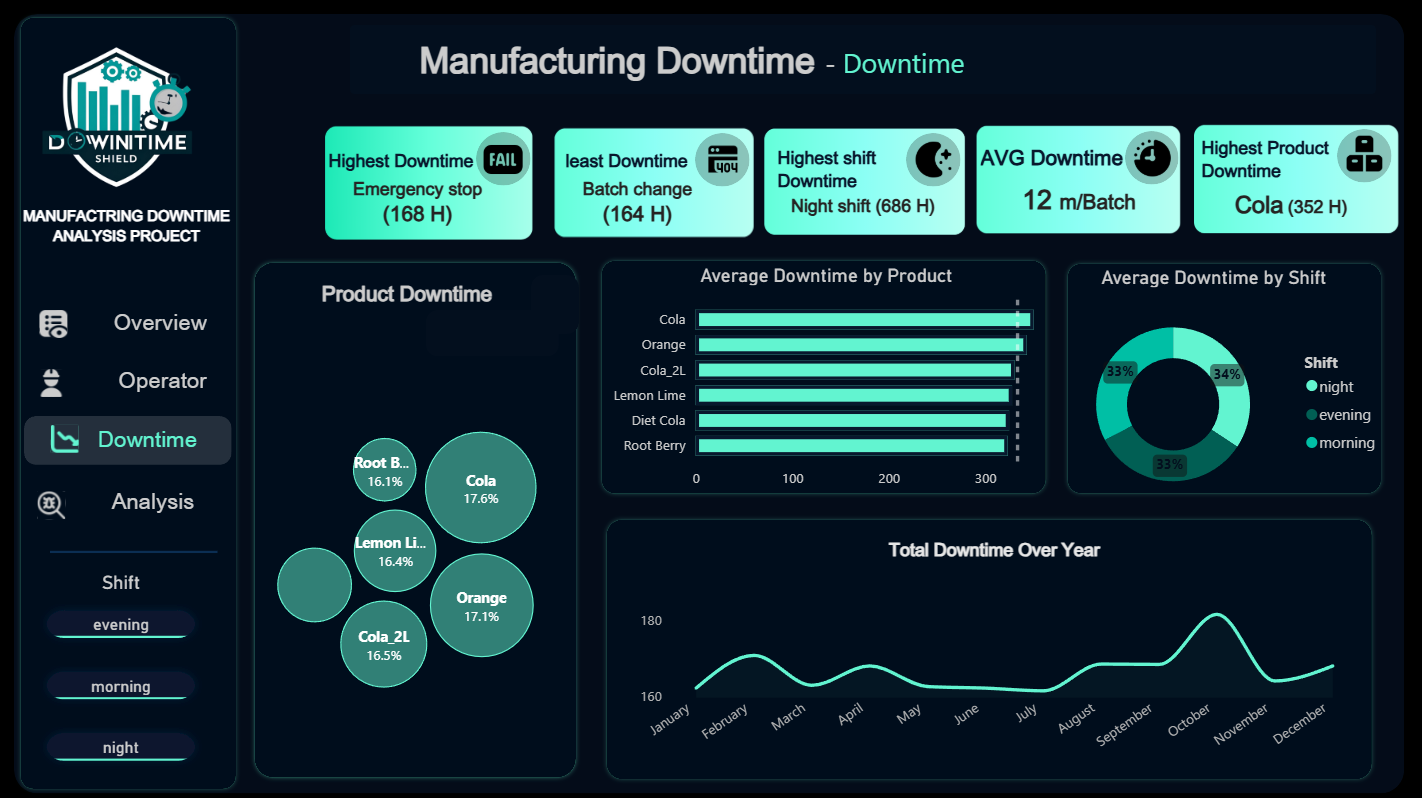

What the dashboard file says about the page in this screenshot:
{"tool":"tableau","page":{"name":"downtime dashboard","canvas":[1000,1000],"units":"permille","ordinal":4},"visuals":[{"type":"image","param":"C:/Users/Haridy/Downloads/Capturedowntimet.PNG","box":[4.4,7.5,991.2,984.9]},{"type":"text","box":[126.4,30.2,442.3,120.8]},{"type":"text","box":[361.5,107.5,147.8,110.4]},{"type":"text","box":[3.5,134,108.1,100]},{"type":"text","box":[110.4,135.8,228.6,63.2]},{"type":"text","box":[567.4,145.3,177.3,96.2]},{"type":"filter","title":"Sheet 7","param":"[federated.0c9032j022f4a41e0ua0h1i23vp0].[mn:Date:ok]","box":[776.9,150.9,184.6,67.9]},{"type":"text","box":[405.5,161.3,63.2,84.9]},{"type":"text","box":[148.3,173.6,146.2,71.7]},{"type":"text","box":[591.8,203.8,111.5,124.5]},{"type":"text","box":[169.8,213.2,92.3,105.7]},{"type":"text","box":[388.5,222.6,91.2,77.4]},{"type":"filter","title":"Sheet 7","param":"[federated.0c9032j022f4a41e0ua0h1i23vp0].[none:shift (operator):nk]","box":[777.5,232.1,186.3,63.2]},{"type":"dashboard-object","box":[37.8,348.1,43,65.1]},{"type":"worksheet","title":"Sheet 13","mark":"Circle","box":[132,354.7,319.8,568.9]},{"type":"worksheet","title":"Sheet 24","mark":"Square","rows":["shift (operator)"],"box":[794.2,359.4,158.1,209.4]},{"type":"worksheet","title":"total delay per month","mark":"Line","rows":["total(h)"],"cols":["Date"],"box":[463.4,363.2,308.7,507.6]},{"type":"dashboard-object","box":[41.3,587.7,43.6,65.1]},{"type":"worksheet","title":"Sheet 9","mark":"Bar","rows":["Batch (downtime)"],"cols":["total(m)"],"box":[464.3,611.3,283,327.4]},{"type":"worksheet","title":"Sheet 7","mark":"Automatic","box":[760.4,624.5,205,306.6]},{"type":"parameter","param":"[Parameters].[Parameter 3]","box":[672.1,644.3,71.5,24.5]}]}

Visuals, with their boxes on the dashboard's canvas, which has no fixed pixel size, in thousandths of its width and height (x1, y1, x2, y2). These are canvas units, not pixel positions in the 1422x798 screenshot, which may show the page scaled, cropped or inside an application window:
image: (left=4, top=8, right=996, bottom=992)
text: (left=126, top=30, right=569, bottom=151)
text: (left=362, top=108, right=509, bottom=218)
text: (left=4, top=134, right=112, bottom=234)
text: (left=110, top=136, right=339, bottom=199)
text: (left=567, top=145, right=745, bottom=242)
"Sheet 7" filter: (left=777, top=151, right=962, bottom=219)
text: (left=406, top=161, right=469, bottom=246)
text: (left=148, top=174, right=294, bottom=245)
text: (left=592, top=204, right=703, bottom=328)
text: (left=170, top=213, right=262, bottom=319)
text: (left=388, top=223, right=480, bottom=300)
"Sheet 7" filter: (left=778, top=232, right=964, bottom=295)
dashboard-object: (left=38, top=348, right=81, bottom=413)
"Sheet 13" worksheet (Circle marks): (left=132, top=355, right=452, bottom=924)
"Sheet 24" worksheet (Square marks): (left=794, top=359, right=952, bottom=569)
"total delay per month" worksheet (Line marks): (left=463, top=363, right=772, bottom=871)
dashboard-object: (left=41, top=588, right=85, bottom=653)
"Sheet 9" worksheet (Bar marks): (left=464, top=611, right=747, bottom=939)
"Sheet 7" worksheet: (left=760, top=624, right=965, bottom=931)
parameter: (left=672, top=644, right=744, bottom=669)
